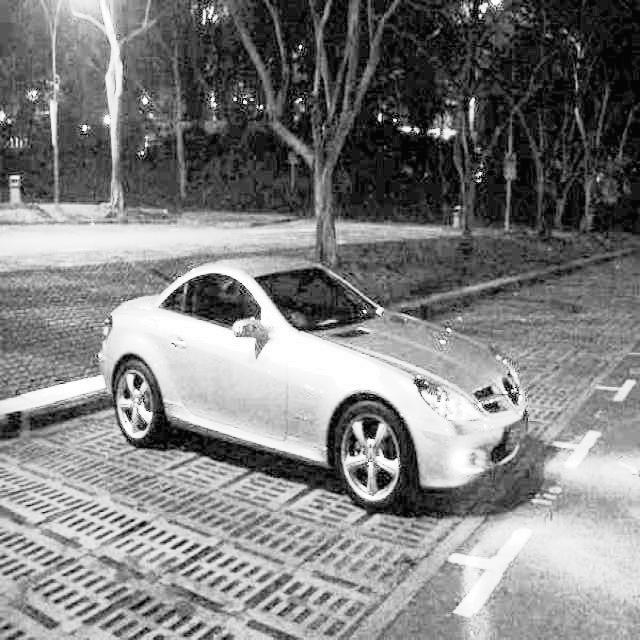Car: (101, 200, 574, 549)
Tree: (268, 0, 358, 279), (80, 0, 133, 218)
